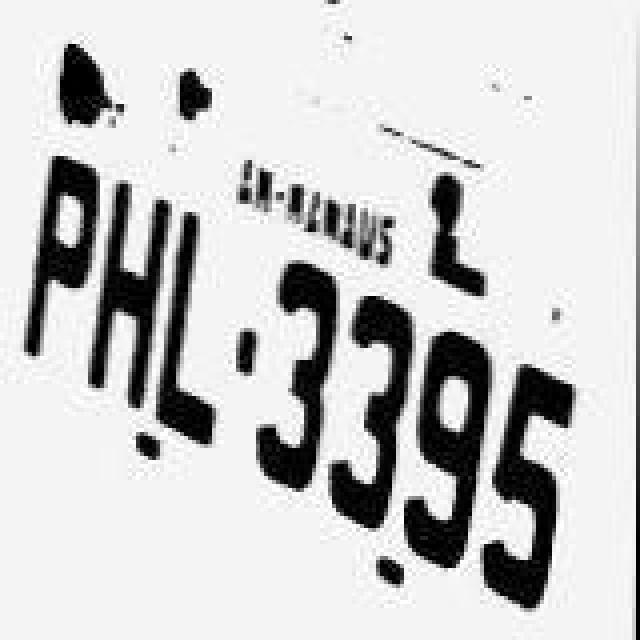3: (258, 258, 338, 502), (336, 288, 412, 528)
5: (488, 358, 580, 618)
9: (408, 318, 492, 570)
H: (90, 174, 170, 418)
L: (168, 206, 228, 458)
P: (20, 148, 96, 364)
